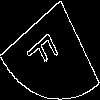F: (25, 25, 65, 75)
